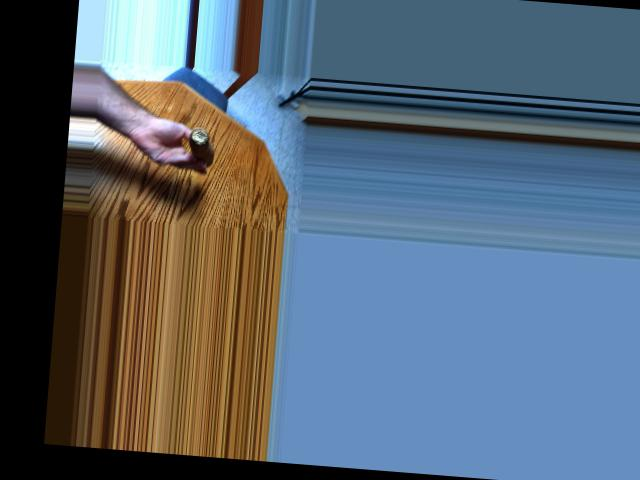sweet_potato: (180, 121, 217, 168)
